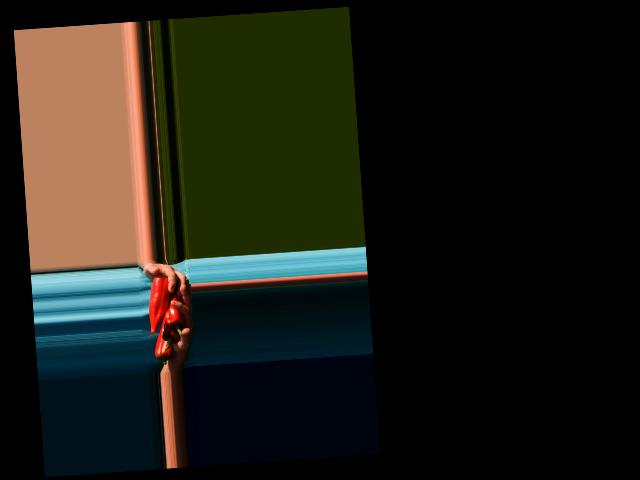bell_pepper: (153, 327, 175, 365)
